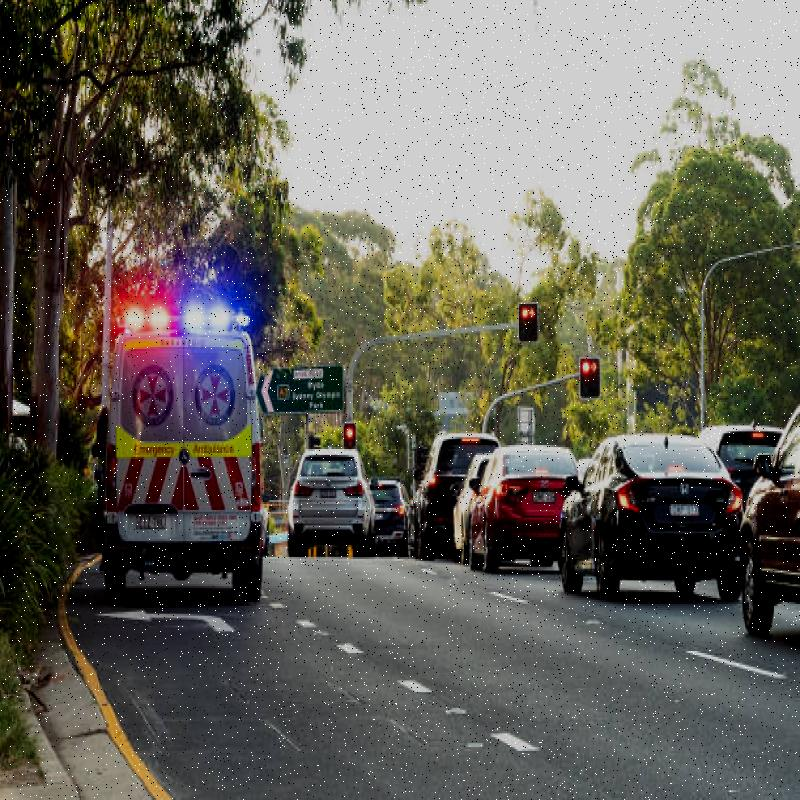AmbulanceSiren: (114, 282, 236, 340)
